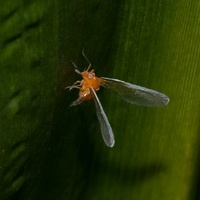insect: (66, 49, 168, 146)
